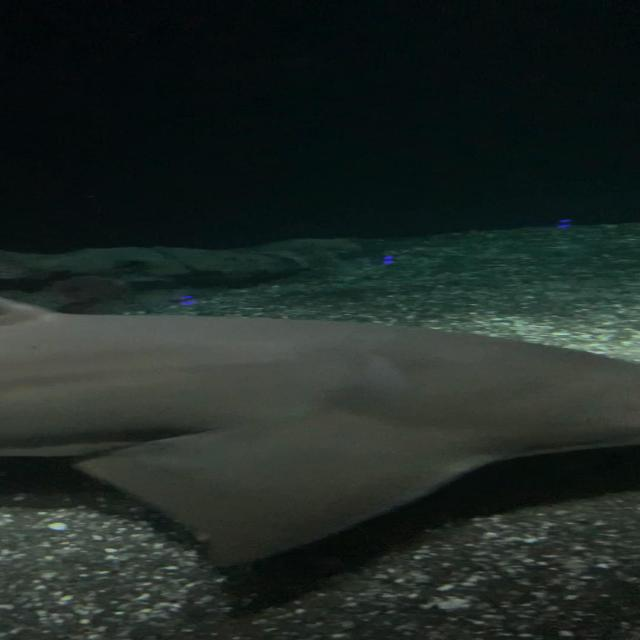shark: (0, 293, 640, 578)
